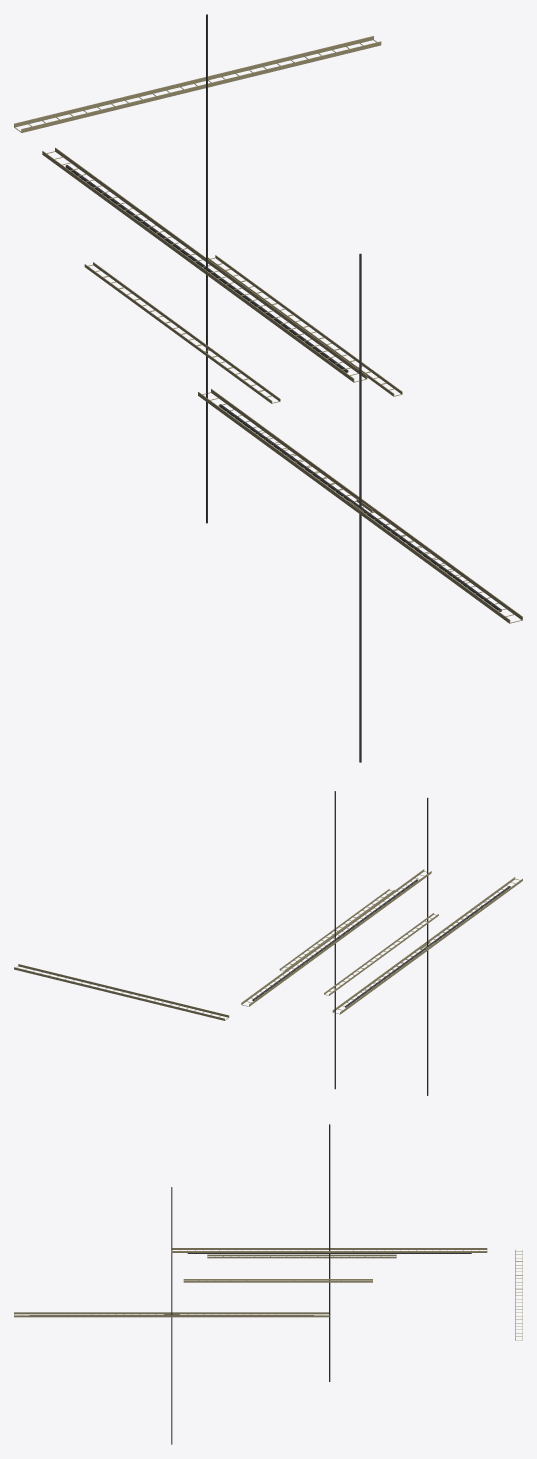
Rendered from datacenter-network.glb.
3 views of the same model, one above another, from view 1: azimuth 30°, elevation 25°; view 2: azimuth 150°, elevation 25°; view 3: azimuth 270°, elevation 25° (orthographic). The views are drawn at different scales.
Parts seen in each view (by area): view 1: rail_right.001 (×2), rail_left.001 (×2), rail_left.002 (×2), sheath (×2), rail_right.002, bundle_core_s7, bundle_core_s9, bundle_core_s8; view 2: rail_left.001 (×2), rail_right.001 (×2), sheath (×2), rail_right.002, rail_left.002; view 3: rail_right.001 (×2), rail_left.001 (×2), bundle_core_s1.
Boxes of the visible parts, bbox=[...] form: rail_right.001 (×2): bbox=[55, 147, 522, 620]; rail_left.001 (×2): bbox=[42, 151, 510, 623]; rail_left.002 (×2): bbox=[21, 41, 457, 585]; sheath (×2): bbox=[65, 165, 501, 611]; rail_right.002: bbox=[14, 36, 373, 127]; bundle_core_s7: bbox=[359, 254, 360, 762]; bundle_core_s9: bbox=[360, 254, 361, 762]; bundle_core_s8: bbox=[206, 15, 207, 522]; rail_left.001 (×2): bbox=[249, 871, 522, 1014]; rail_right.001 (×2): bbox=[241, 869, 515, 1012]; sheath (×2): bbox=[252, 879, 510, 1007]; rail_right.002: bbox=[14, 967, 224, 1020]; rail_left.002: bbox=[18, 964, 229, 1017]; rail_right.001 (×2): bbox=[14, 1251, 487, 1317]; rail_left.001 (×2): bbox=[14, 1248, 487, 1314]; bundle_core_s1: bbox=[171, 1187, 172, 1444].
Bounding box in the file's own units: 9.2 × 13.45 × 19.35.
